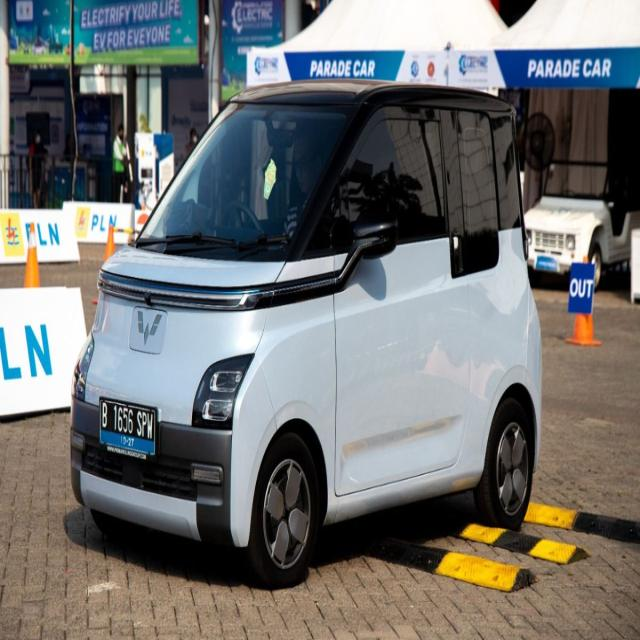lisence-plate: (95, 392, 161, 468)
